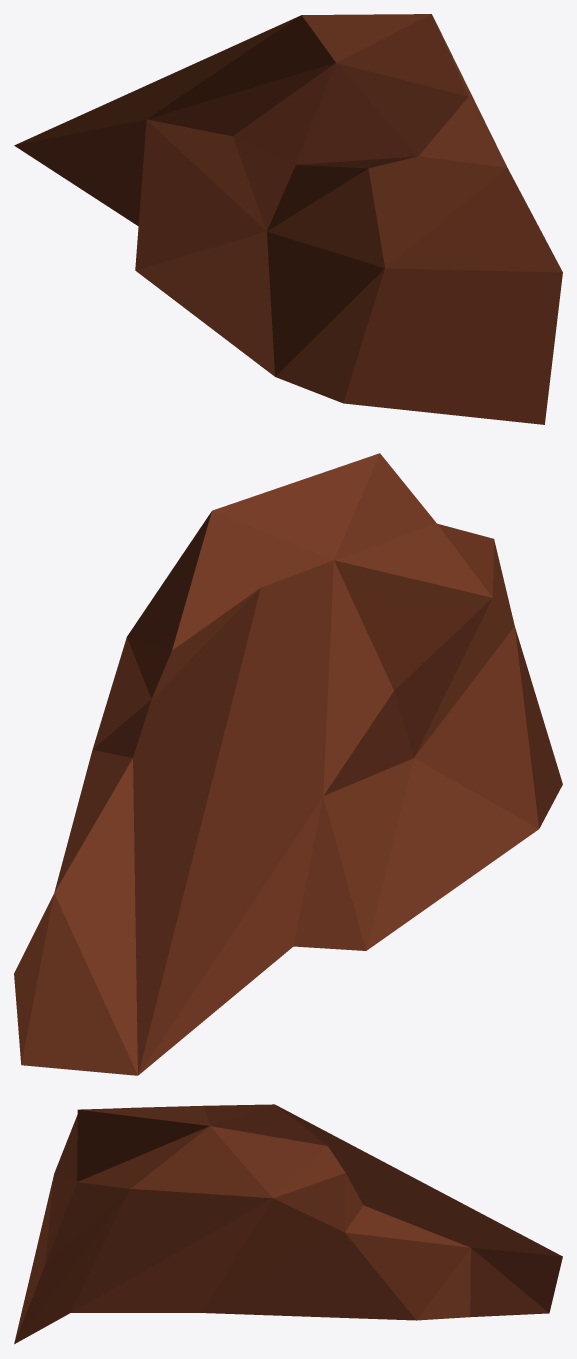
File: 07 Mountain_3.FBX.glb
The picture shows the model from 3 angles, top to bottom: view 1: azimuth 30°, elevation 25°; view 2: azimuth 150°, elevation 25°; view 3: azimuth 270°, elevation 25°; orthographic projection. The views are drawn at different scales.
Parts seen in each view (by area): view 1: Mountain_desert_005.2; view 2: Mountain_desert_005.2; view 3: Mountain_desert_005.2.
Boxes of the visible parts, x1,y1,x2,y2 form: Mountain_desert_005.2: (14,14,562,424); Mountain_desert_005.2: (14,453,562,1075); Mountain_desert_005.2: (14,1104,562,1344).
Size of the model in its own units: 1711 by 2027 by 4464.
